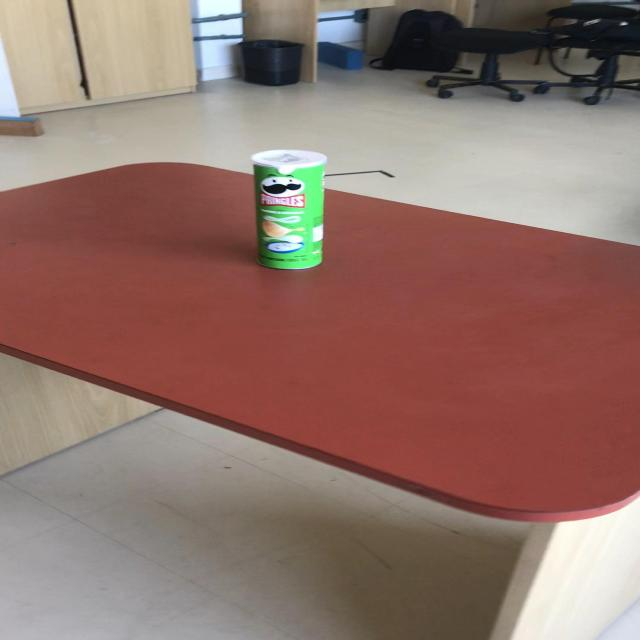a pringles: (248, 148, 327, 270)
